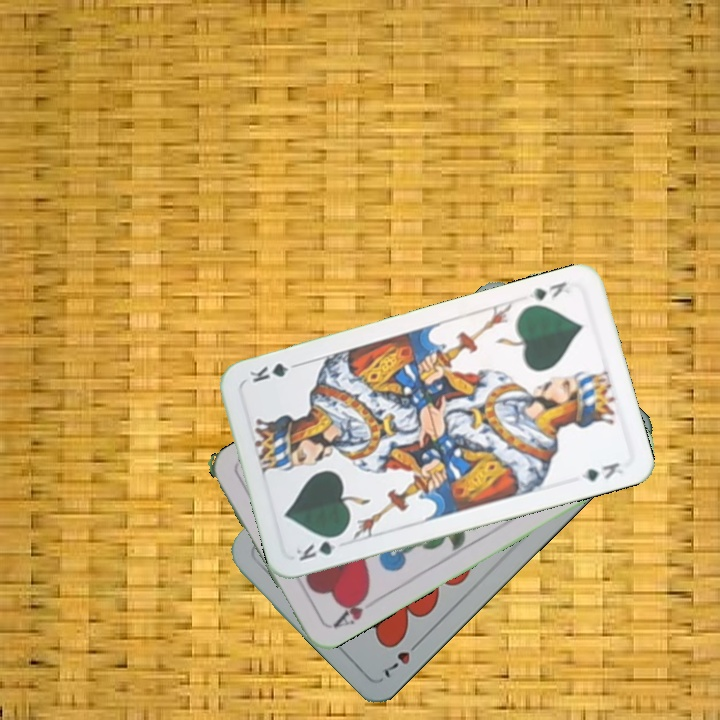GK: (292, 530, 346, 564), (525, 277, 573, 304)
H7: (379, 634, 425, 681)
HA: (328, 588, 372, 631)
